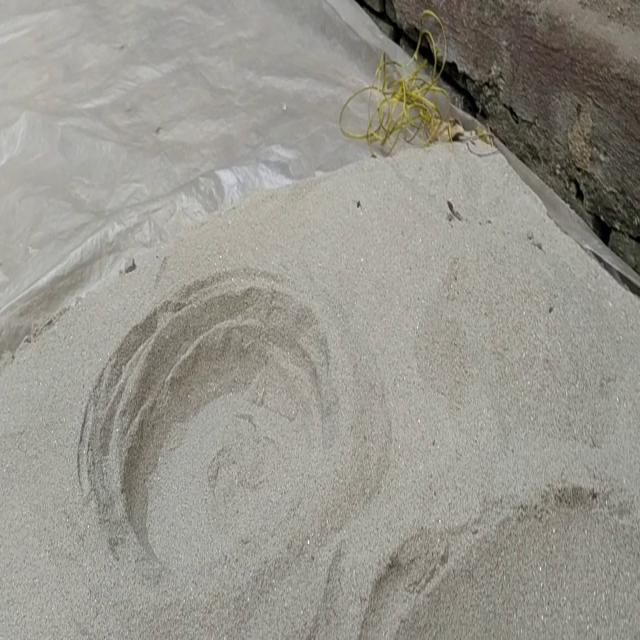C20: (86, 284, 327, 562)
